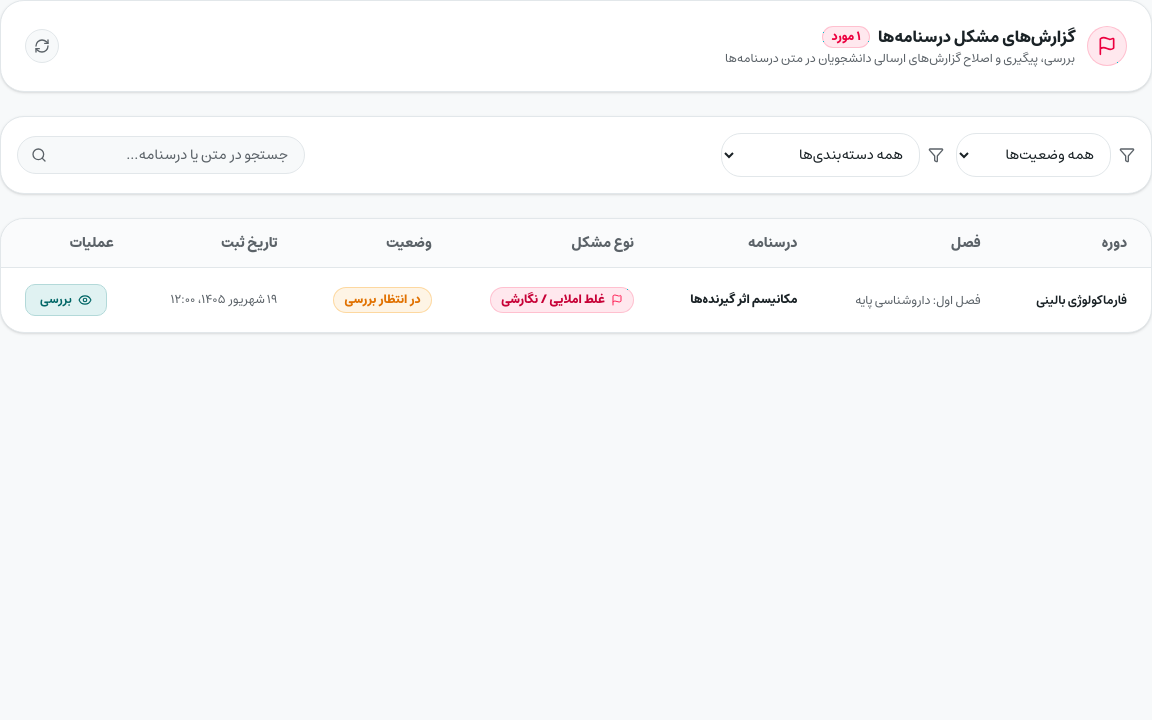
it: AdminContentReportsPanel UI Component › displays selectedText inside the review dialog when 'بررسی' is clicked
Expected: the text "فارماکولوژی بالینی" is shown, x1=1036 y1=290 x2=1127 y2=311
# Click "بررسی" button to open review dialog
Click the button "بررسی" at [66, 300], box x1=25 y1=284 x2=107 y2=316
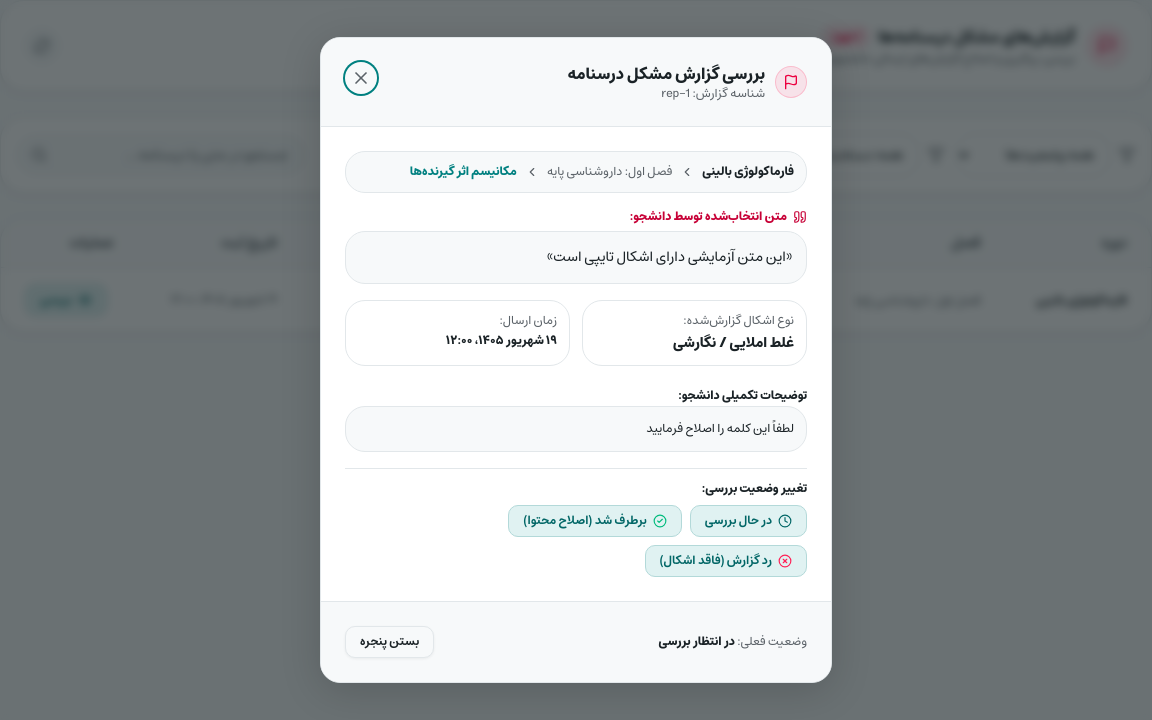
Result: the heading "بررسی گزارش مشکل درسنامه" is shown at x1=567 y1=62 x2=765 y2=86
Result: the text "متن انتخاب‌شده توسط دانشجو:" is shown at x1=630 y1=209 x2=787 y2=225
Result: the text "«این متن آزمایشی دارای اشکال تایپی است»" is shown at x1=345 y1=231 x2=807 y2=284
